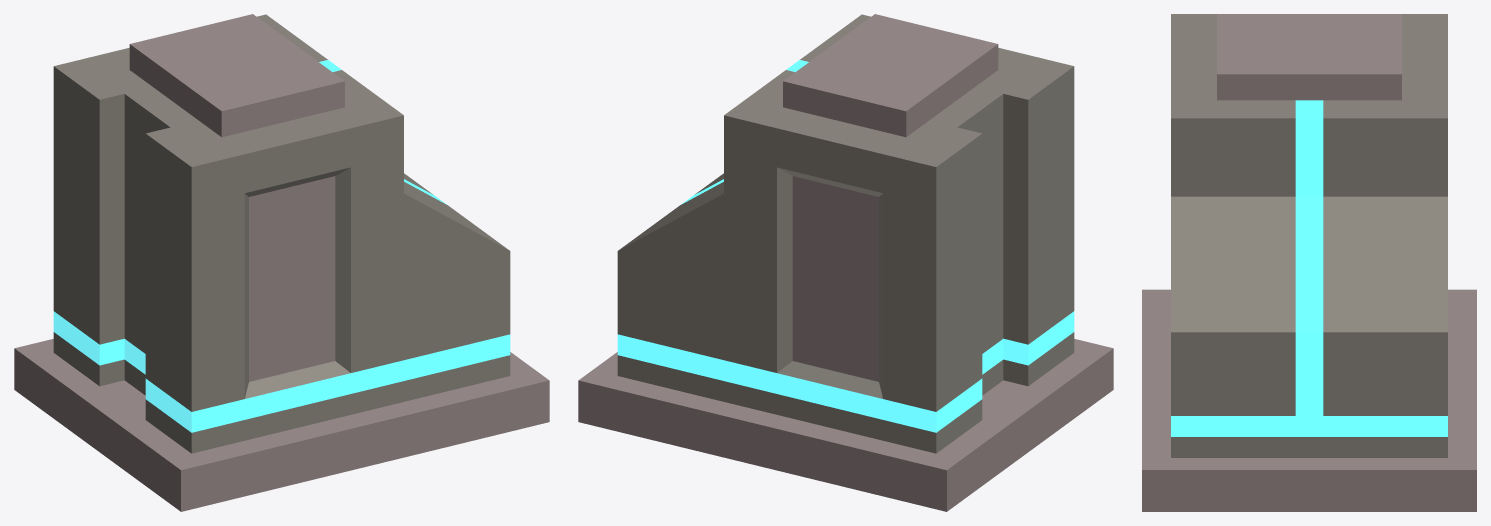
Rendered from ContainerBig2.fbx.
3 views of the same model, side by side, from view 1: azimuth 30°, elevation 25°; view 2: azimuth 150°, elevation 25°; view 3: azimuth 270°, elevation 25° (orthographic).
Parts seen in each view (by area): view 1: ContainerBig2; view 2: ContainerBig2; view 3: ContainerBig2.
Boxes of the visible parts, box(x1,y1,x2,y2) form: ContainerBig2: box(14, 14, 549, 511); ContainerBig2: box(578, 14, 1113, 511); ContainerBig2: box(1142, 14, 1476, 511).
Size of the model in its own units: 370 by 340 by 290.
